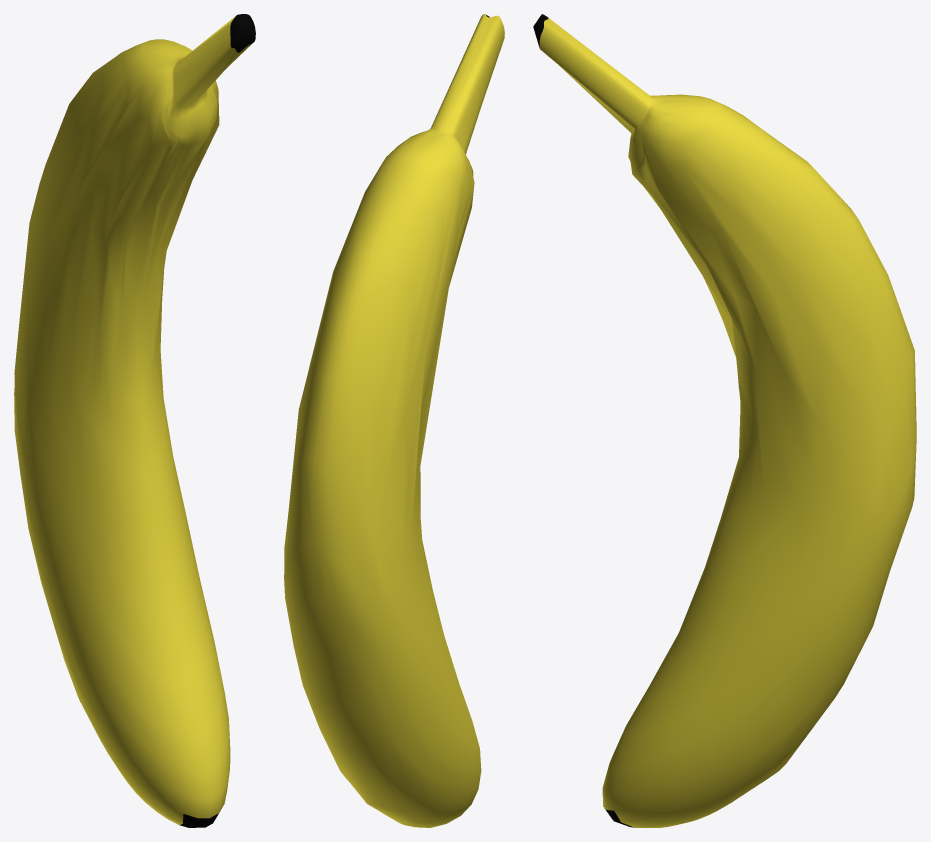
File: BananaJoe.fbx
The picture shows the model from 3 angles, left to right: view 1: azimuth 30°, elevation 25°; view 2: azimuth 150°, elevation 25°; view 3: azimuth 270°, elevation 25°; orthographic projection. The views are drawn at different scales.
Parts seen in each view (by area): view 1: Sphere; view 2: Sphere; view 3: Sphere.
Part boxes in pixels (x1,y1,x2,y2): Sphere: [14, 14, 255, 827]; Sphere: [284, 14, 504, 827]; Sphere: [533, 14, 916, 827].
Bounding box in the file's own units: 2 × 12.49 × 5.38.
